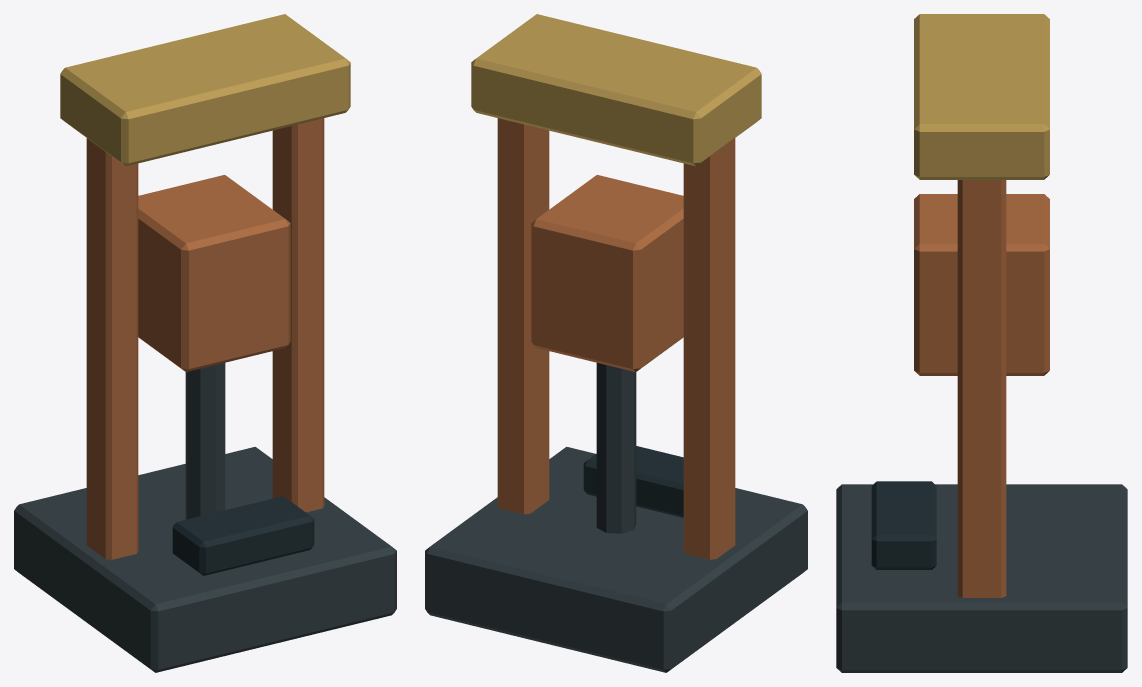
The model's file is drill-lod0.79b6925e27c3.glb.
3 renders of one model, left to right at view 1: azimuth 30°, elevation 25°; view 2: azimuth 150°, elevation 25°; view 3: azimuth 270°, elevation 25°, orthographic. The views are drawn at different scales.
Parts seen in each view (by area): view 1: body, drill_head; view 2: body, drill_head; view 3: body, drill_head.
Boxes of the visible parts, bbox=[...] form: body: bbox=[14, 14, 396, 672]; drill_head: bbox=[138, 175, 290, 519]; body: bbox=[425, 14, 807, 672]; drill_head: bbox=[531, 175, 683, 533]; body: bbox=[836, 14, 1127, 672]; drill_head: bbox=[914, 194, 1049, 375].
Size of the model in its own units: 0.9 by 1.86 by 0.9.
